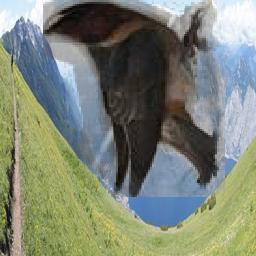Swallow: (43, 1, 225, 198)
